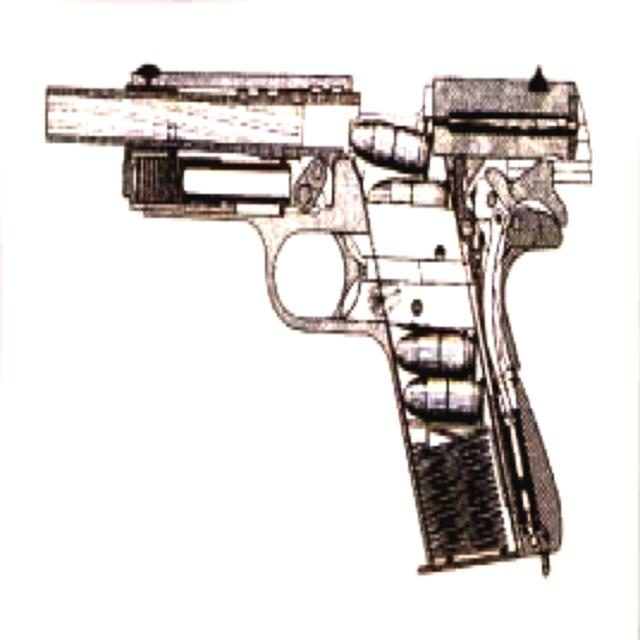semi automatic: (9, 8, 621, 608)
